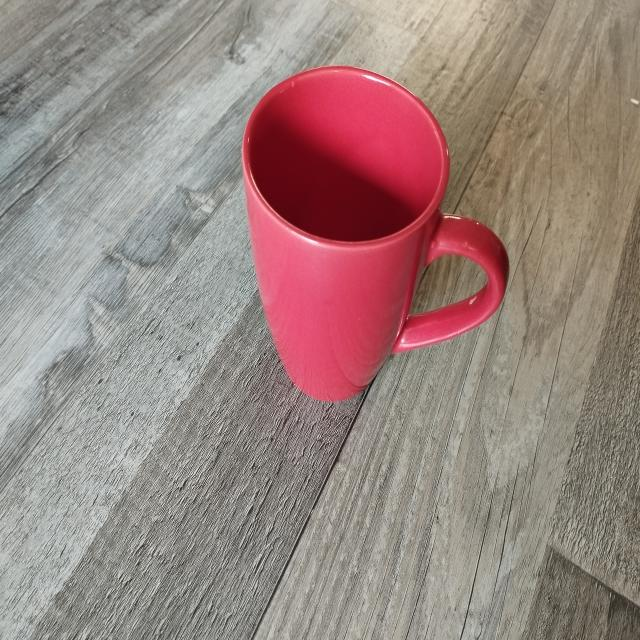Cup: (222, 51, 516, 419)
